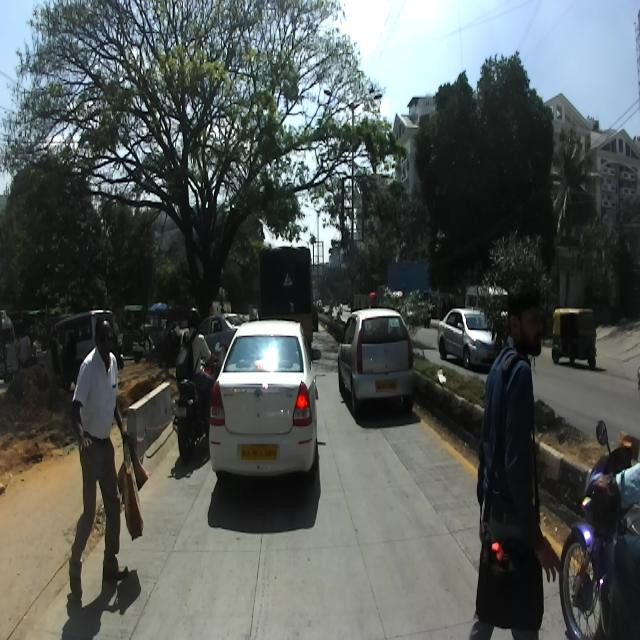car ahead at: (214, 319, 316, 494), (336, 313, 416, 420)
person ahead at: (476, 279, 560, 640), (77, 310, 137, 621)
